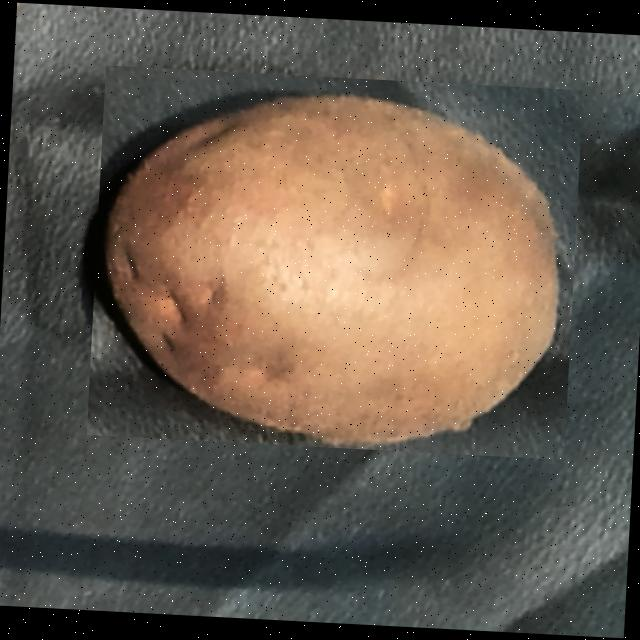Diseased-fungal potato: (85, 64, 582, 459)
